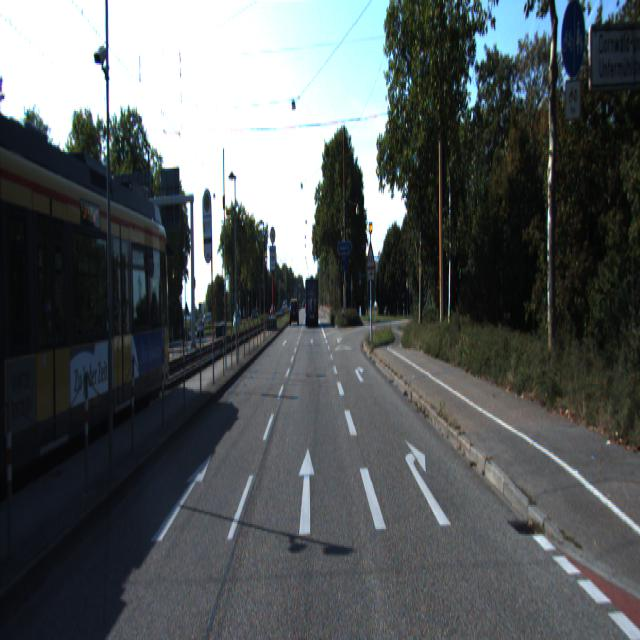Car: (0, 124, 180, 504), (305, 275, 319, 326), (290, 299, 299, 326)
